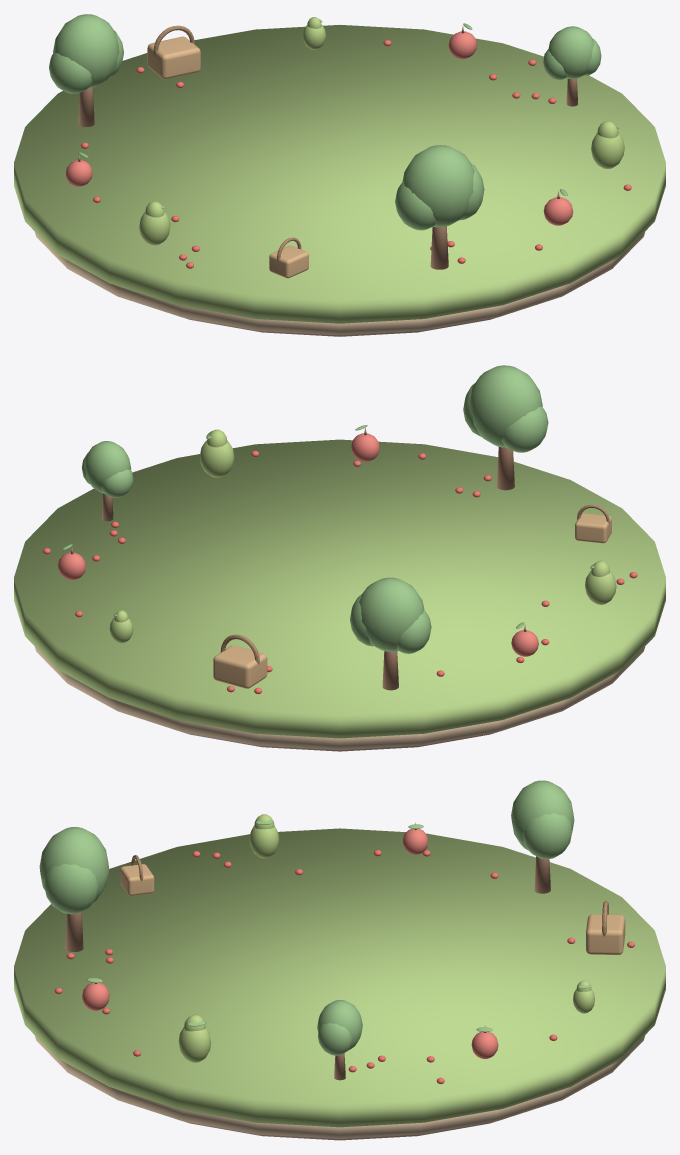
Rendered from world.glb.
3 views of the same model, one above another, from view 1: azimuth 30°, elevation 25°; view 2: azimuth 150°, elevation 25°; view 3: azimuth 270°, elevation 25° (orthographic).
Parts seen in each view (by area): view 1: Cone, Cone.001, tree.003, tree.002, tree.001, basket.001, pear.003, basket.002, pear.002, apple.003, apple.001, apple.002 (+2 smaller); view 2: Cone, Cone.001, tree.003, tree.002, tree.001, basket.001, pear.003, basket.002, pear.002, apple.003, apple.001, apple.002 (+1 smaller); view 3: Cone, Cone.001, tree.003, tree.002, tree.001, basket.001, pear.003, pear.002, basket.002, apple.003, apple.001, apple.002 (+2 smaller).
Boxes of the visible parts, bbox=[...] form: Cone: bbox=[14, 25, 665, 323]; Cone.001: bbox=[35, 232, 644, 335]; tree.003: bbox=[395, 145, 484, 269]; tree.002: bbox=[49, 14, 123, 126]; tree.001: bbox=[543, 26, 601, 106]; basket.001: bbox=[147, 25, 200, 79]; pear.003: bbox=[591, 121, 624, 168]; basket.002: bbox=[269, 237, 308, 278]; pear.002: bbox=[139, 201, 170, 245]; apple.003: bbox=[543, 189, 573, 225]; apple.001: bbox=[448, 23, 477, 59]; apple.002: bbox=[66, 152, 92, 186]; Cone: bbox=[14, 439, 665, 738]; Cone.001: bbox=[34, 646, 645, 750]; tree.003: bbox=[463, 365, 548, 490]; tree.002: bbox=[350, 577, 431, 690]; tree.001: bbox=[81, 441, 133, 521]; basket.001: bbox=[213, 634, 267, 688]; pear.003: bbox=[199, 429, 234, 477]; basket.002: bbox=[575, 504, 611, 543]; pear.002: bbox=[585, 560, 616, 604]; apple.003: bbox=[351, 425, 379, 461]; apple.001: bbox=[58, 544, 85, 580]; apple.002: bbox=[511, 622, 538, 656]; Cone: bbox=[14, 828, 665, 1127]; Cone.001: bbox=[34, 1035, 645, 1138]; tree.003: bbox=[39, 827, 109, 951]; tree.002: bbox=[511, 780, 574, 893]; tree.001: bbox=[317, 1000, 362, 1080]; basket.001: bbox=[586, 901, 625, 954]; pear.003: bbox=[178, 1014, 211, 1062]; pear.002: bbox=[249, 814, 279, 858]; basket.002: bbox=[120, 855, 154, 895]; apple.003: bbox=[82, 976, 109, 1010]; apple.001: bbox=[471, 1025, 498, 1059]; apple.002: bbox=[402, 822, 428, 854].
Bounding box in the file's own units: 9.6 × 2.72 × 9.6.
